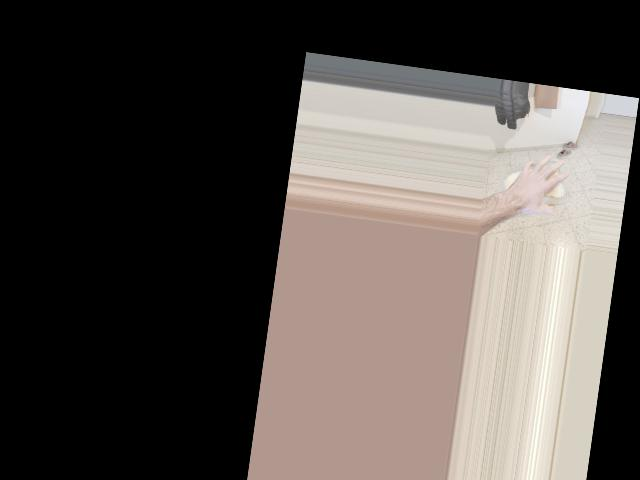cheese: (498, 150, 572, 223)
